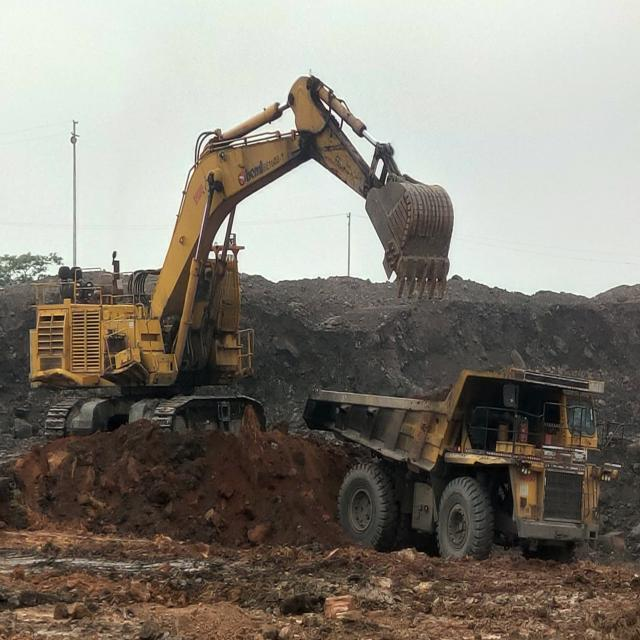dump_truck: (303, 370, 609, 561)
excavator: (28, 77, 454, 441)
